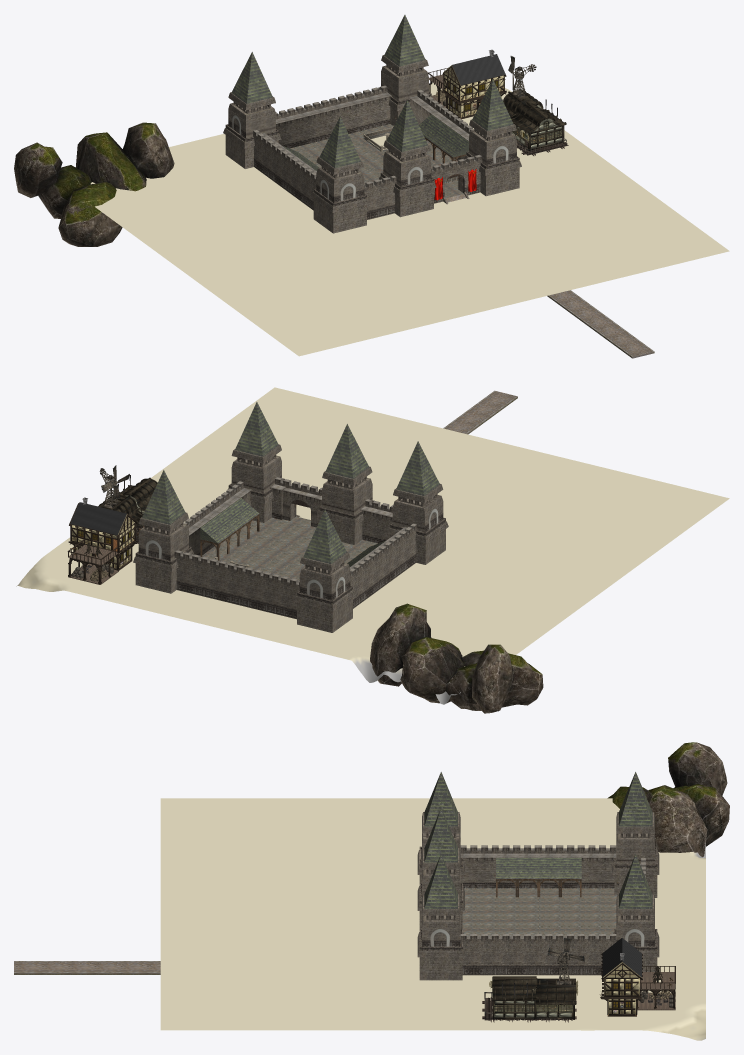
The picture shows the model from 3 angles, top to bottom: view 1: azimuth 30°, elevation 25°; view 2: azimuth 150°, elevation 25°; view 3: azimuth 270°, elevation 25°; orthographic projection. The views are drawn at different scales.
Visible parts, largest first — view 1: Feltiks Castle, Terrain 2,14, Terrain 3,14, Terrain 2,15, prim0-mesh_0, Rigelhaus, Bakery (pirate Town), Terrain 3,15, Cobbled Sidewalk Street 7547, muraille chateau1; view 2: Feltiks Castle, Terrain 2,14, Terrain 2,15, Terrain 3,14, prim0-mesh_0, Terrain 3,15, Rigelhaus, Bakery (pirate Town), Cobbled Sidewalk Street 7547, muraille chateau1; view 3: Feltiks Castle, Terrain 3,14, Terrain 2,14, Terrain 3,15, Terrain 2,15, prim0-mesh_0, Rigelhaus, Bakery (pirate Town), Cobbled Sidewalk Street 7547, muraille chateau1.
Part boxes in pixels (x1,y1,x2,y2): Feltiks Castle: [223, 15, 521, 233]; Terrain 2,14: [175, 214, 513, 356]; Terrain 3,14: [392, 160, 729, 303]; Terrain 2,15: [90, 134, 325, 265]; prim0-mesh_0: [14, 122, 174, 246]; Rigelhaus: [428, 49, 506, 118]; Bakery (pirate Town): [503, 76, 568, 155]; Terrain 3,15: [367, 83, 605, 180]; Cobbled Sidewalk Street 7547: [547, 290, 654, 358]; muraille chateau1: [348, 124, 441, 169]; Feltiks Castle: [133, 402, 448, 632]; Terrain 2,14: [437, 443, 729, 594]; Terrain 2,15: [242, 555, 597, 704]; Terrain 3,14: [151, 387, 501, 519]; prim0-mesh_0: [370, 603, 543, 713]; Terrain 3,15: [16, 491, 269, 633]; Rigelhaus: [67, 497, 137, 584]; Bakery (pirate Town): [98, 475, 157, 543]; Cobbled Sidewalk Street 7547: [443, 390, 517, 434]; muraille chateau1: [202, 546, 292, 574]; Feltiks Castle: [417, 772, 659, 980]; Terrain 3,14: [160, 914, 435, 1030]; Terrain 2,14: [160, 798, 429, 914]; Terrain 3,15: [435, 914, 705, 1040]; Terrain 2,15: [452, 798, 705, 914]; prim0-mesh_0: [607, 742, 729, 857]; Rigelhaus: [599, 938, 675, 1016]; Bakery (pirate Town): [482, 961, 578, 1022]; Cobbled Sidewalk Street 7547: [14, 961, 160, 974]; muraille chateau1: [539, 926, 616, 935].
Size of the model in its own units: 139 by 42.27 by 167.
Materials: 110 (108 with a texture image).
